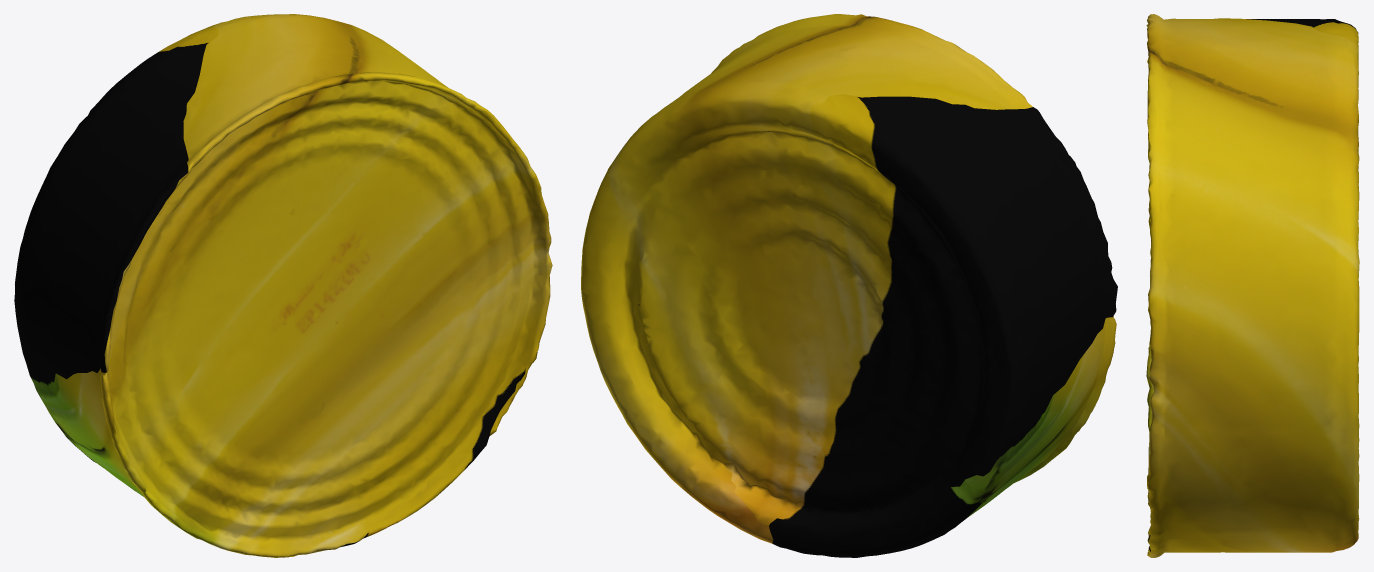
File: model_com.obj
3 views of the same model, side by side, from view 1: azimuth 30°, elevation 25°; view 2: azimuth 150°, elevation 25°; view 3: azimuth 270°, elevation 25° (orthographic). The views are drawn at different scales.
Size of the model in its own units: 0.0856 by 0.0855 by 0.0335.
